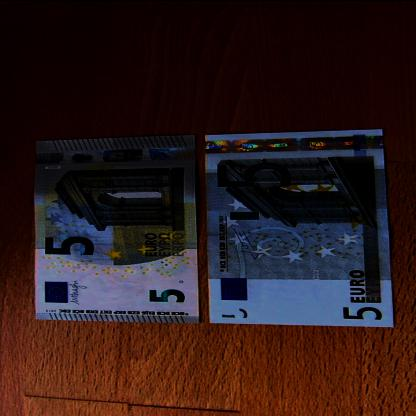euro_banknote: (199, 140, 399, 323), (23, 149, 212, 313)
